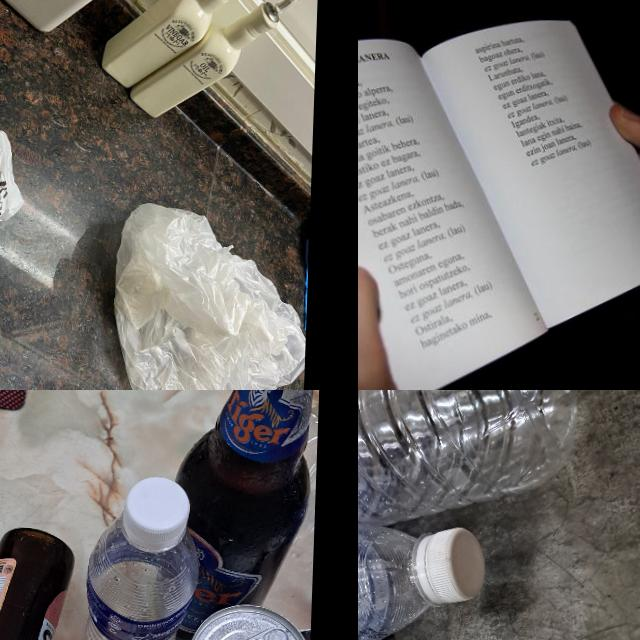aba de lata: (240, 625, 291, 640)
garrafa de vidro: (170, 390, 319, 640)
garrafa plástica: (358, 390, 586, 567), (82, 515, 200, 640), (358, 515, 434, 640)
lata: (166, 601, 311, 640)
papel: (358, 7, 640, 390)
sacola plástica: (107, 201, 309, 390)
tampa plástica: (424, 527, 488, 605), (122, 475, 192, 545)
